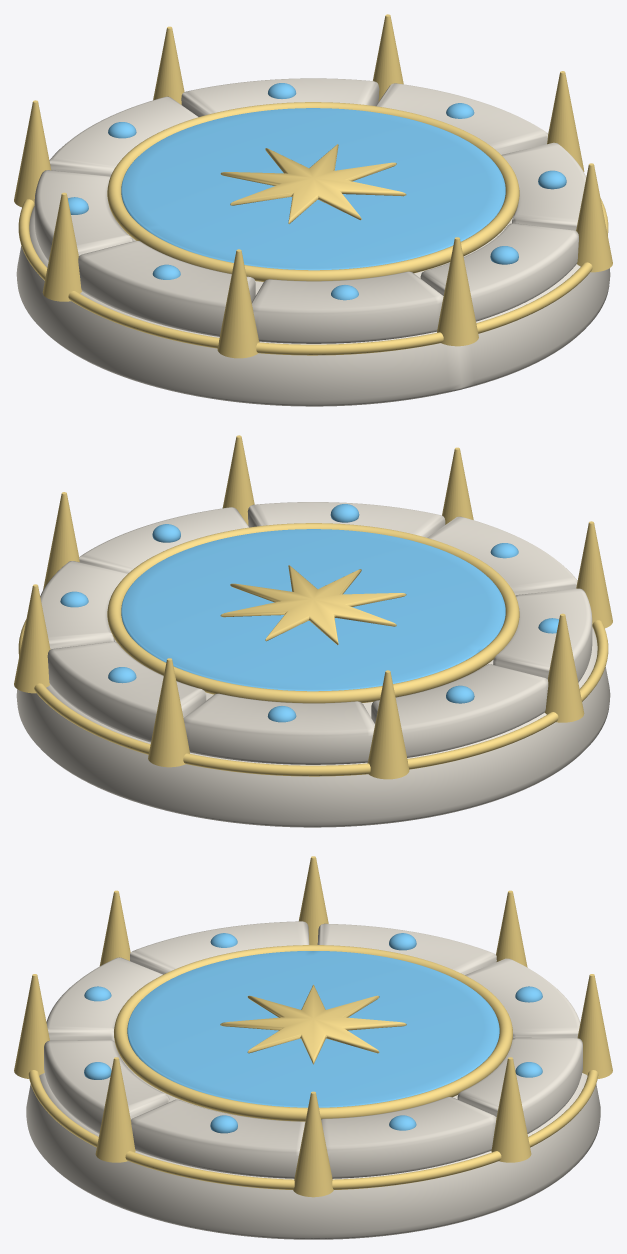
The model's file is WM_NodePad_Boss.fbx.
3 renders of one model, top to bottom at view 1: azimuth 30°, elevation 25°; view 2: azimuth 150°, elevation 25°; view 3: azimuth 270°, elevation 25°, orthographic. The views are drawn at different scales.
Visible parts, largest first — view 1: WM_NodePad_Boss; view 2: WM_NodePad_Boss; view 3: WM_NodePad_Boss.
Part boxes in pixels (box(x1,y1,x2,y2)): WM_NodePad_Boss: box(14, 14, 612, 406); WM_NodePad_Boss: box(14, 435, 612, 827); WM_NodePad_Boss: box(14, 856, 612, 1239).
Bounding box in the file's own units: 2.04 × 0.55 × 2.04.
